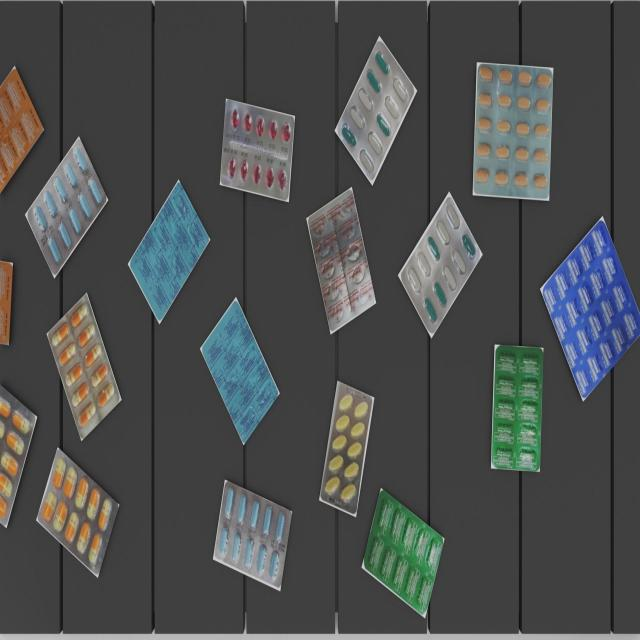blister: (542, 219, 640, 397), (335, 38, 416, 185), (129, 180, 210, 325), (400, 194, 480, 336), (473, 62, 555, 200), (27, 139, 107, 276), (48, 293, 121, 442), (362, 487, 444, 619), (36, 448, 120, 574), (306, 186, 376, 334), (213, 478, 292, 591), (318, 383, 374, 516), (222, 100, 294, 198), (494, 343, 546, 475), (0, 378, 36, 525), (0, 68, 40, 191)
